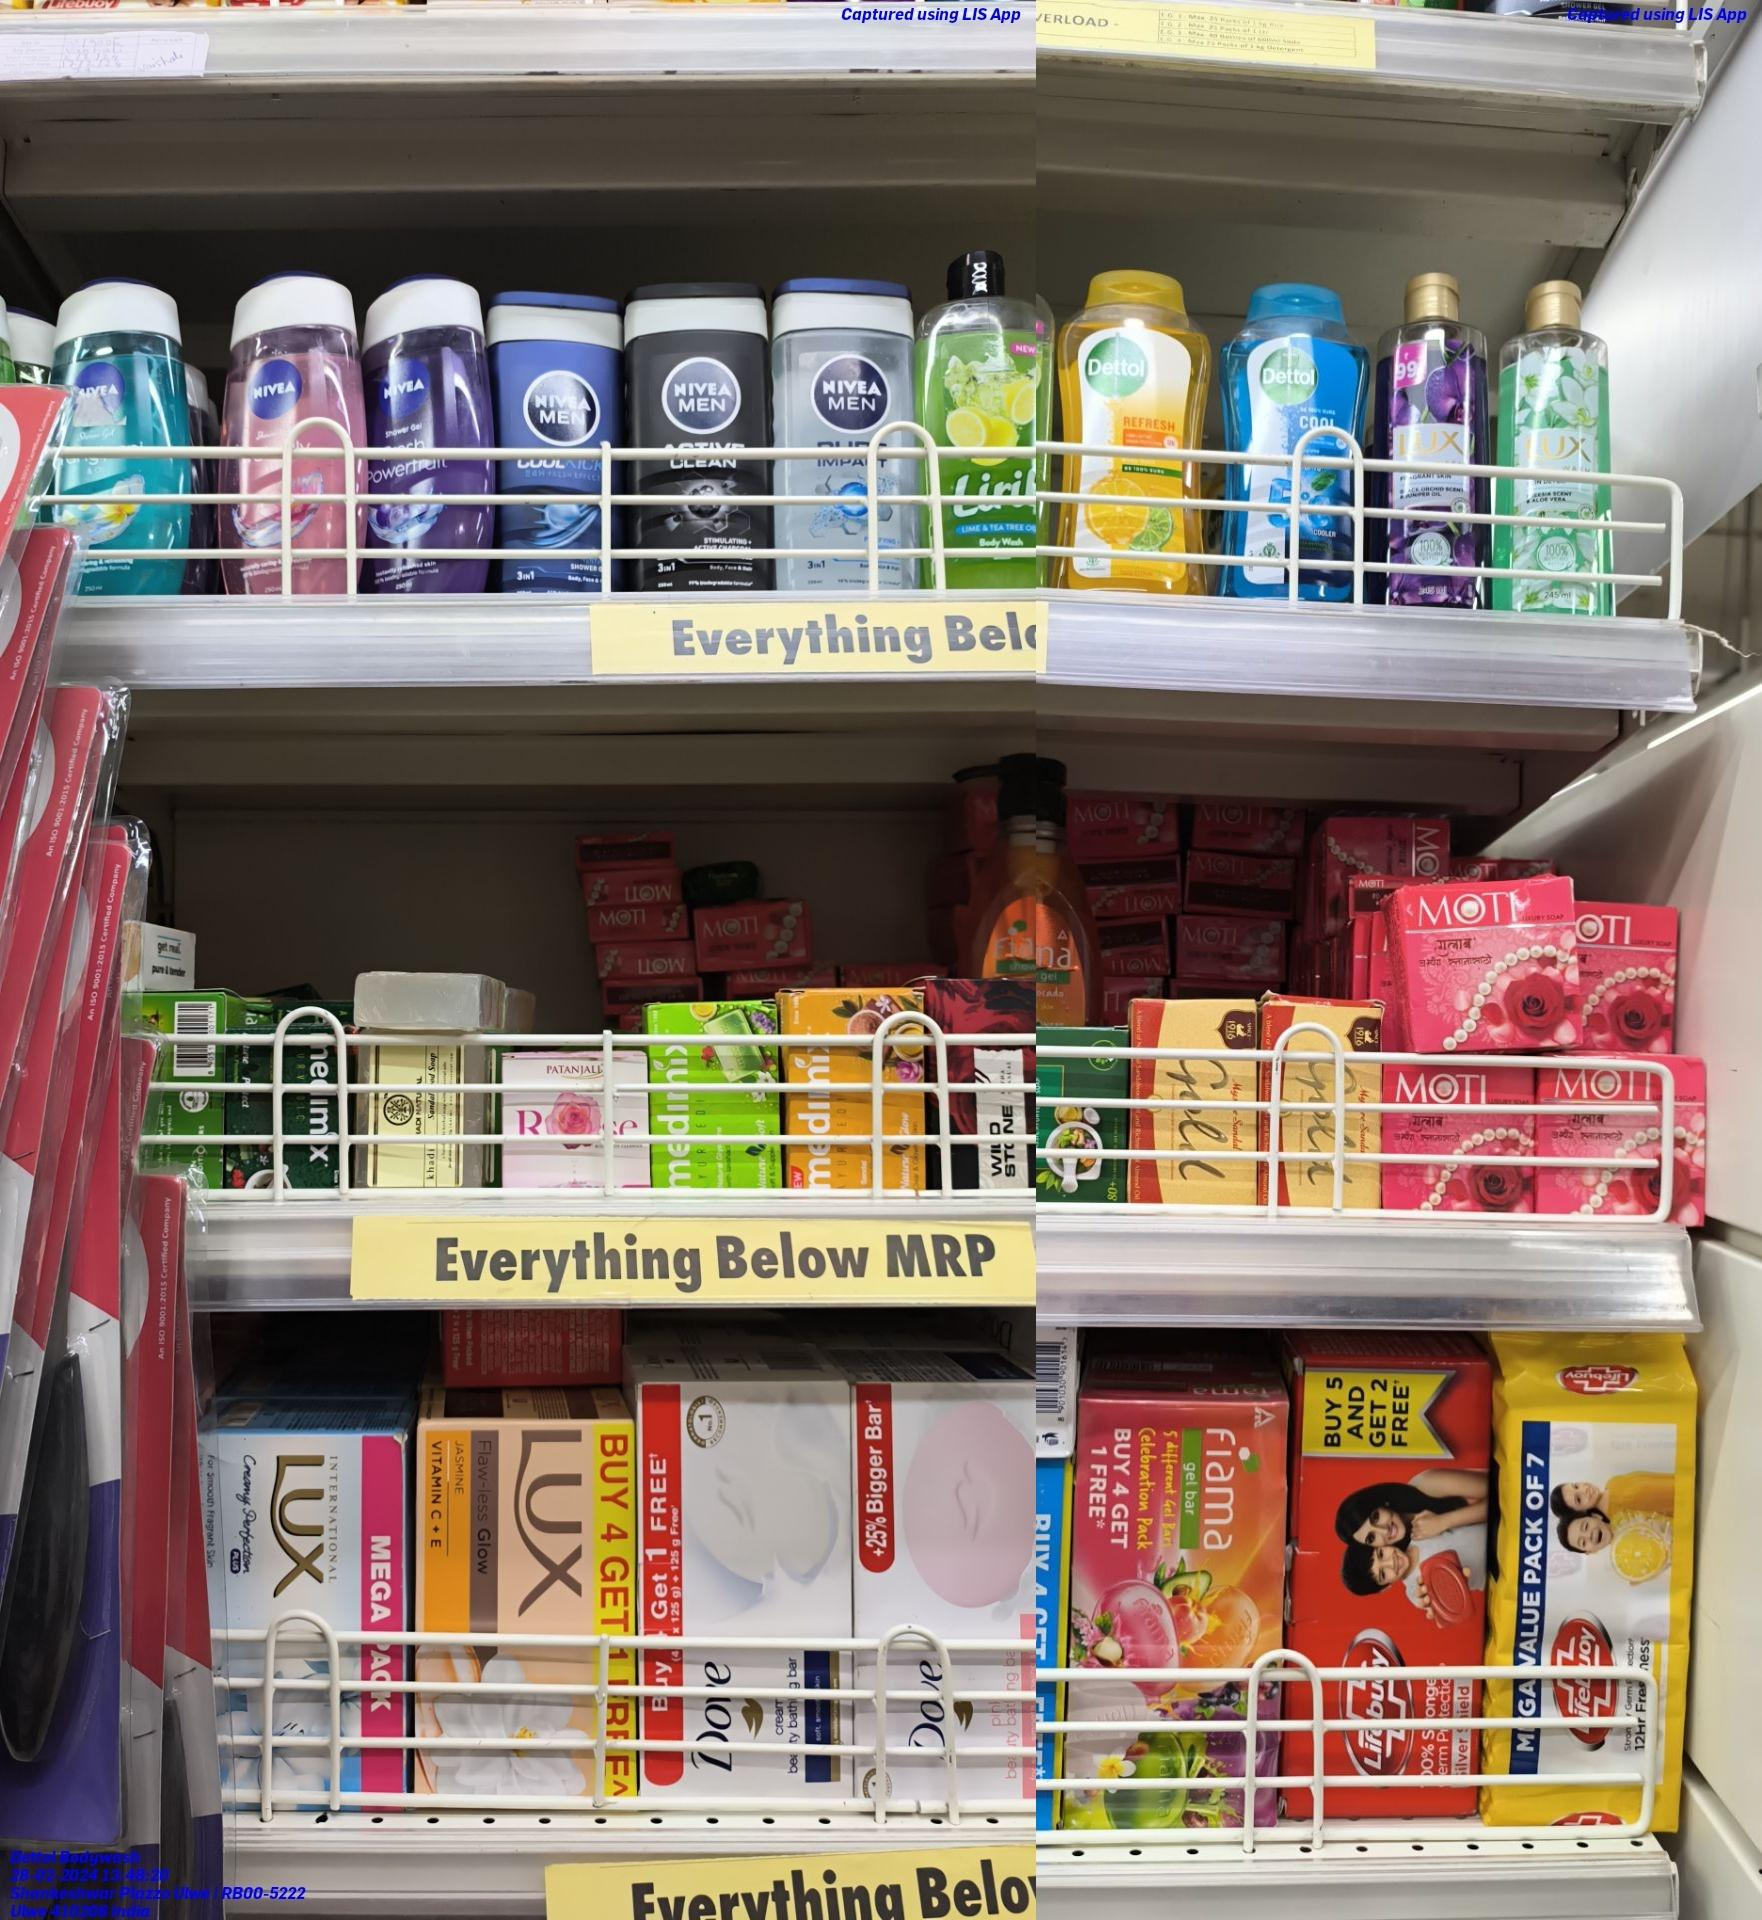Dettol_Bodywash_Cool: (1224, 278, 1366, 610)
Dettol_Bodywash_Refresh: (1062, 256, 1209, 600)
Liril_Lime_and_Tea_Tree_Oil_Body_Wash_250ML: (933, 244, 1050, 600)
Lux_Black_Orchid_Scent_and_Juniper_Oil_Body_Wash_245ML: (1378, 264, 1493, 610)
Lux_Body_Wash_Skin_Detox_Freesia_Scent_and_Alove_Vera_245ML: (1498, 269, 1625, 617)
Nivea_Shower_Gel_Frangipani_and_Oil_250ML: (52, 271, 181, 597)
Nivea_Shower_Gel_Fresh_Powerfruit_250ML: (364, 264, 486, 592)
Nivea_Shower_Gel_Waterlily_and_Oil_250ML: (219, 271, 359, 595)
